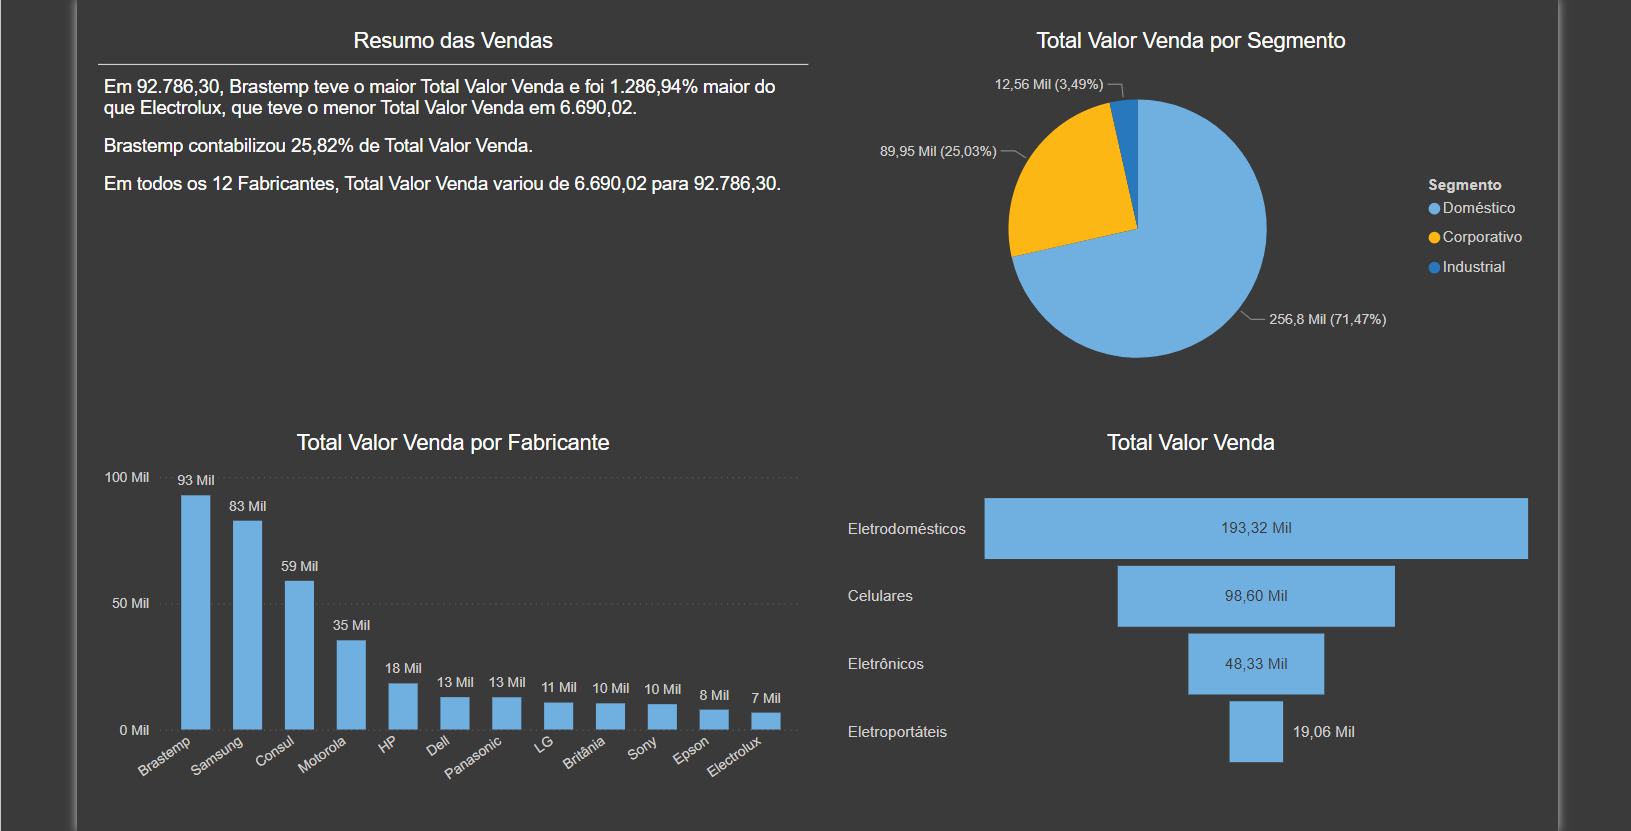

The dashboard page shown, as its layout file describes it:
{"tool":"powerbi","page":{"name":"Resumo de Vendas","canvas":[1280,720],"ordinal":1},"visuals":[{"type":"pieChart","title":"Total Valor Venda por Segmento","fields":{"Category":["Vendas.Segmento"],"Y":["Sum(Vendas.ValorVenda)"]},"box":[661.4,25.3,603,325.8],"z":0},{"type":"funnel","title":"Total Valor Venda","fields":{"Category":["Vendas.Categoria"],"Y":["Sum(Vendas.ValorVenda)"]},"box":[661.4,372.5,603,323.9],"z":1},{"type":"clusteredColumnChart","title":"Total Valor Venda por Fabricante","fields":{"Category":["Vendas.Fabricante"],"Y":["Sum(Vendas.ValorVenda)"]},"box":[18.5,372.5,613.7,323.9],"z":2},{"type":"textbox","title":"Resumo das Vendas","box":[18,25,614,326],"z":3}]}

Visuals, with their boxes on the page's 1280x720 design canvas (x1, y1, x2, y2). These are canvas units, not pixel positions in the 1631x831 screenshot, which may show the page scaled, cropped or inside an application window:
"Total Valor Venda por Segmento" pieChart: {"left": 661, "top": 25, "right": 1264, "bottom": 351}
"Total Valor Venda" funnel: {"left": 661, "top": 372, "right": 1264, "bottom": 696}
"Total Valor Venda por Fabricante" clusteredColumnChart: {"left": 18, "top": 372, "right": 632, "bottom": 696}
"Resumo das Vendas" textbox: {"left": 18, "top": 25, "right": 632, "bottom": 351}
